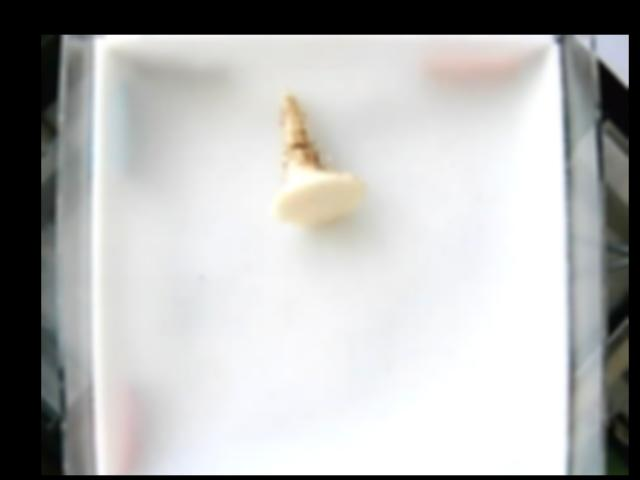Mooli: (273, 90, 367, 229)
